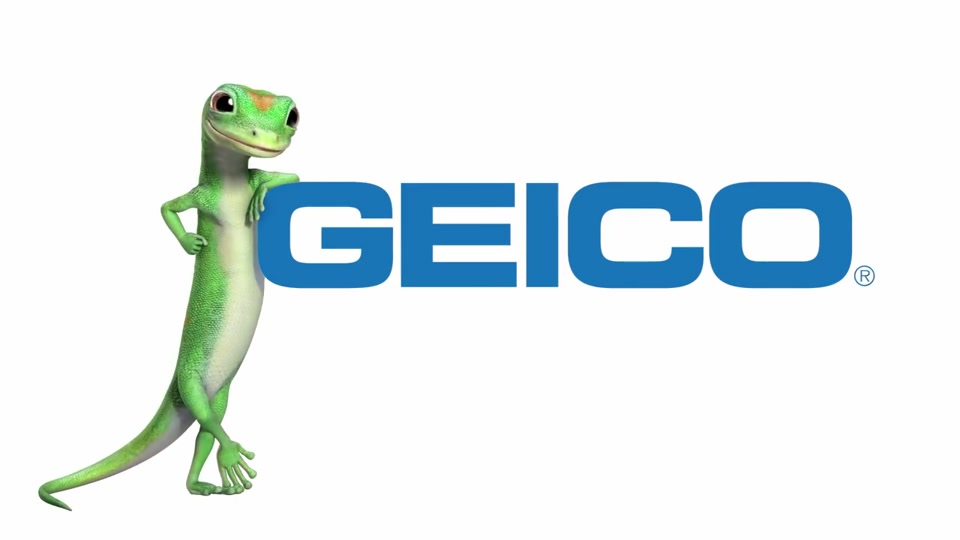Geico: (257, 180, 896, 307)
